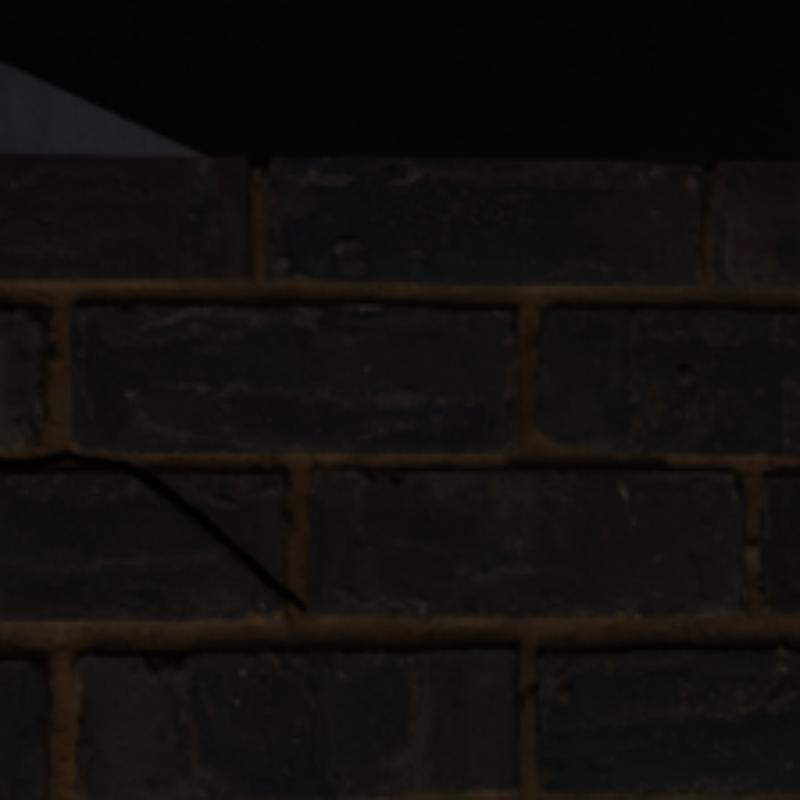pothole: (0, 450, 304, 611)
